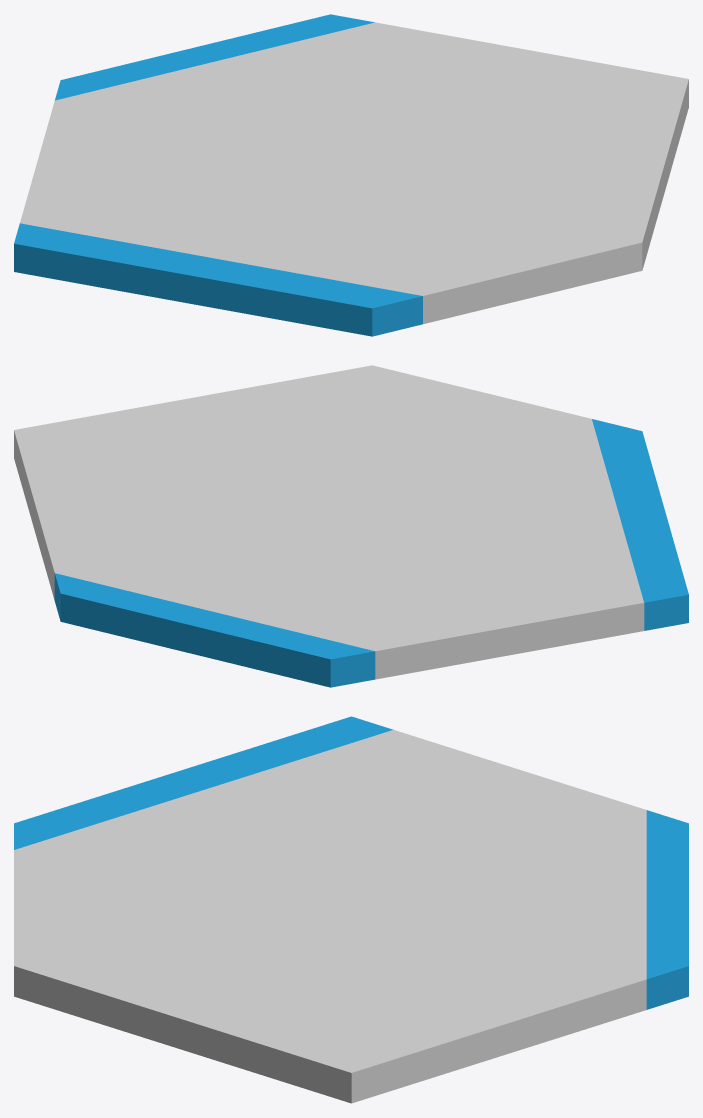
3 views of the same model, one above another, from view 1: azimuth 30°, elevation 25°; view 2: azimuth 150°, elevation 25°; view 3: azimuth 270°, elevation 25° (orthographic). The views are drawn at different scales.
Visible parts, largest first — view 1: Hexagon, SW, N; view 2: Hexagon, N, SW; view 3: Hexagon, SW, N.
Part boxes in pixels (x1,y1,x2,y2): Hexagon: (20, 22, 688, 324); SW: (14, 223, 422, 336); N: (55, 14, 374, 100); Hexagon: (14, 365, 644, 679); N: (54, 573, 375, 687); SW: (592, 419, 688, 630); Hexagon: (14, 730, 646, 1103); SW: (14, 716, 393, 849); N: (646, 810, 688, 1009).
Bounding box in the file's own units: 5 × 4 × 0.2.
